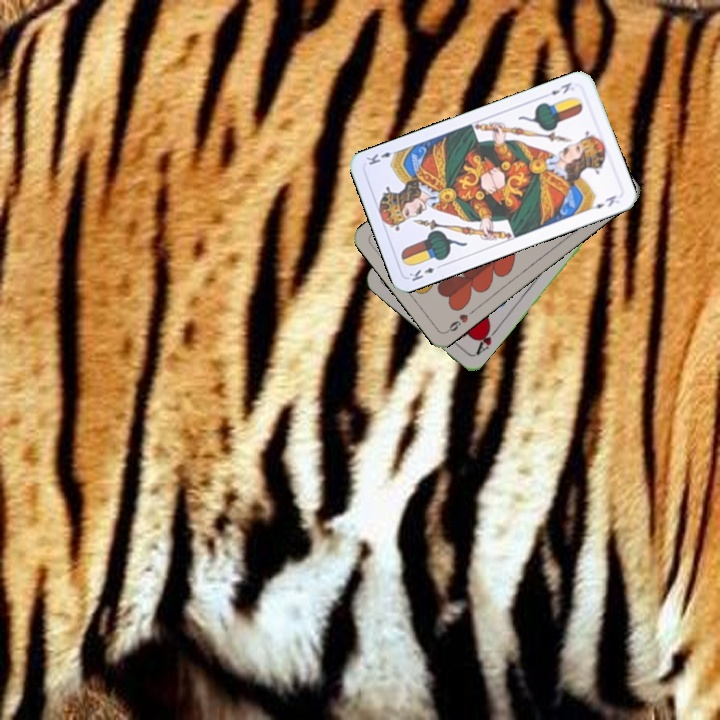EK: (405, 260, 445, 284), (547, 78, 574, 97)
H9: (442, 306, 477, 335)
HA: (472, 321, 501, 357)
